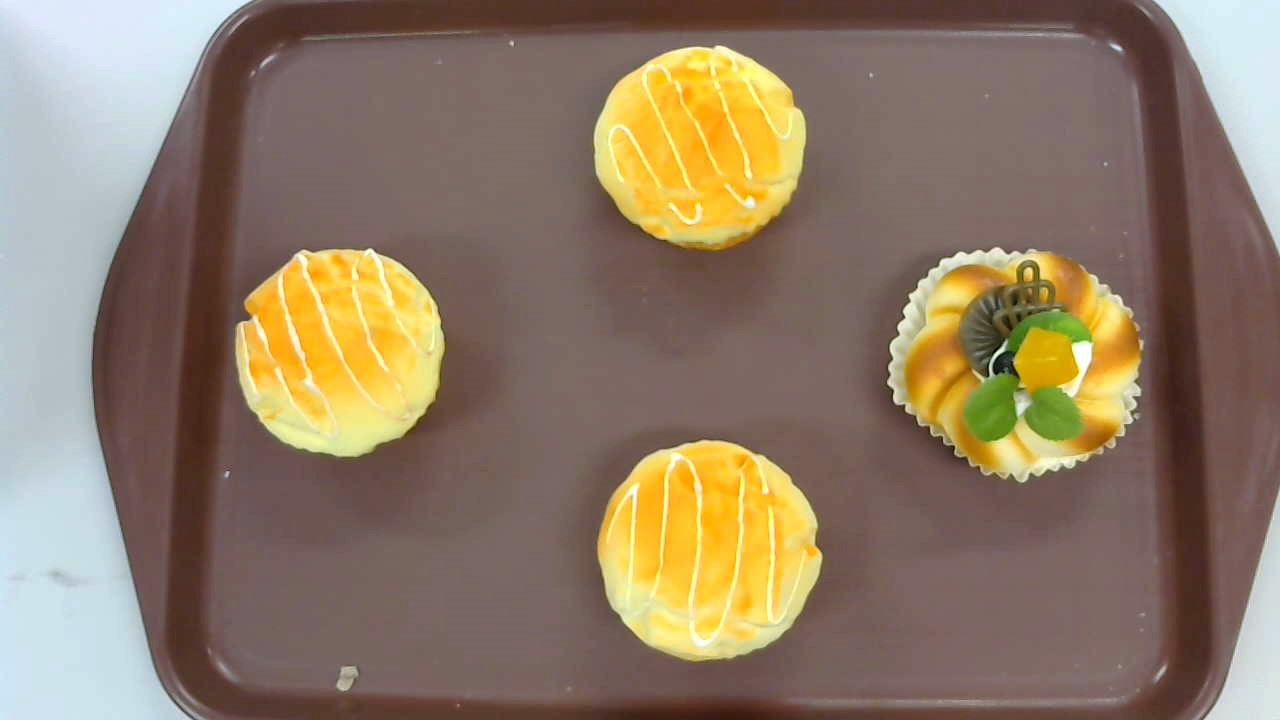cupcake: (597, 438, 823, 662), (593, 45, 808, 253), (234, 247, 444, 459)
fruit tart: (886, 246, 1143, 483)
